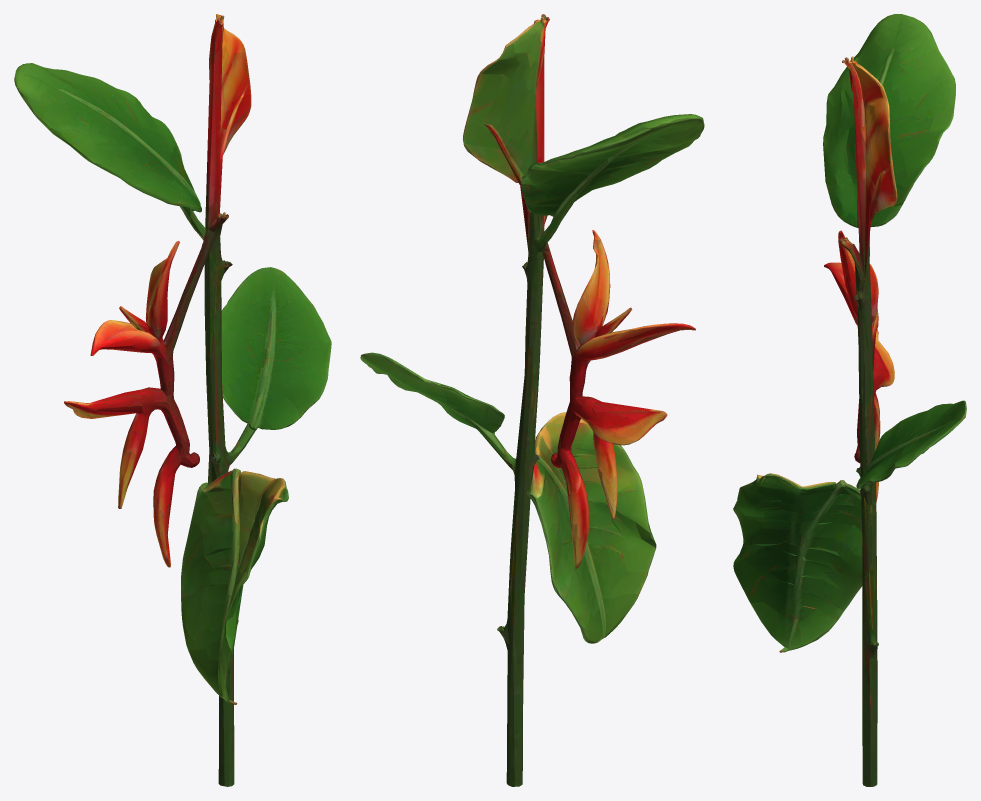
The model's file is scene_heliconia.glb.
The picture shows the model from 3 angles, left to right: view 1: azimuth 30°, elevation 25°; view 2: azimuth 150°, elevation 25°; view 3: azimuth 270°, elevation 25°; orthographic projection. The views are drawn at different scales.
Size of the model in its own units: 0.8159 by 1.9 by 0.5598.
Materials: 1 (1 with a texture image).
